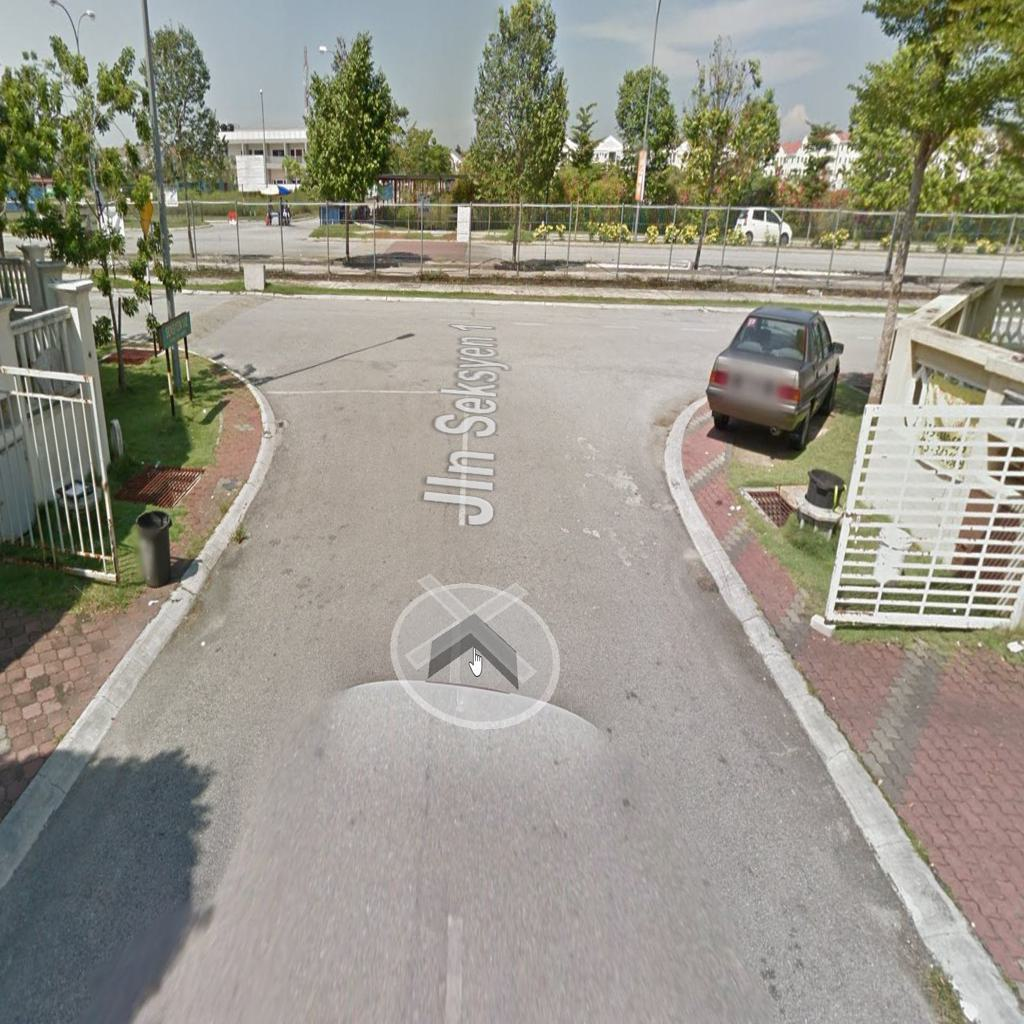Junction: (610, 282, 895, 431), (98, 254, 350, 418)
